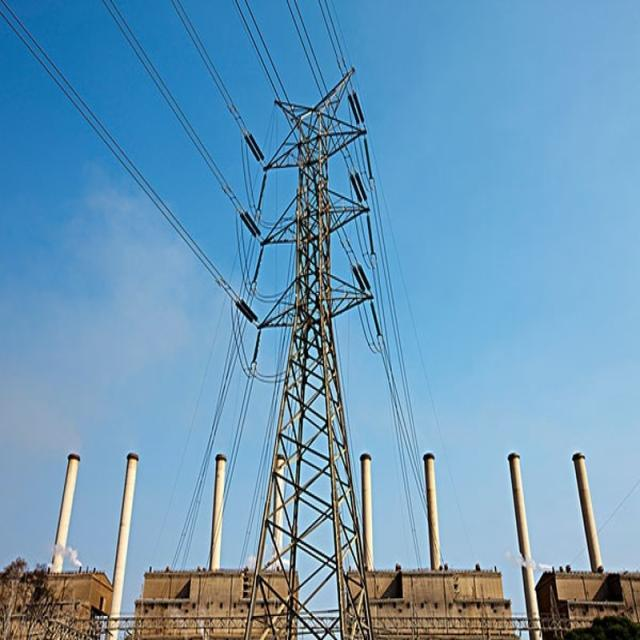non-critical vegetation: (223, 67, 387, 622)
